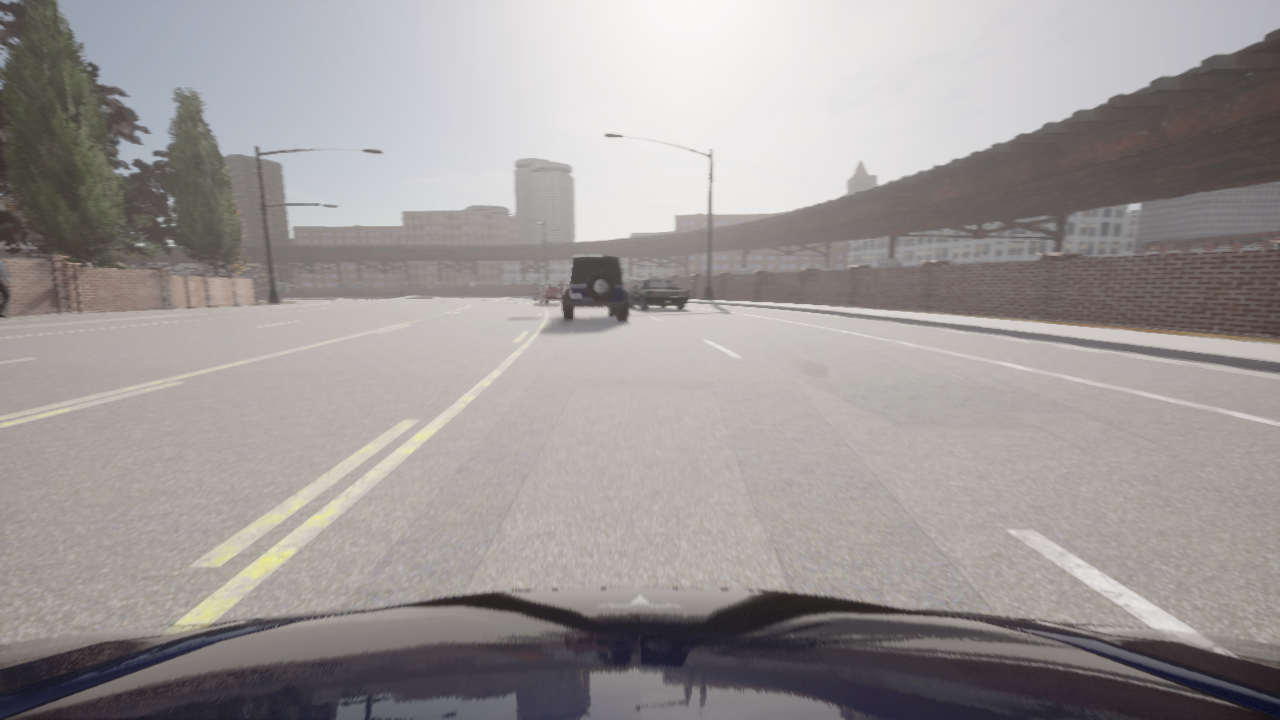cyclist: (0, 588, 1279, 719), (562, 255, 628, 321), (628, 280, 689, 309), (539, 280, 567, 304), (533, 285, 543, 299)
